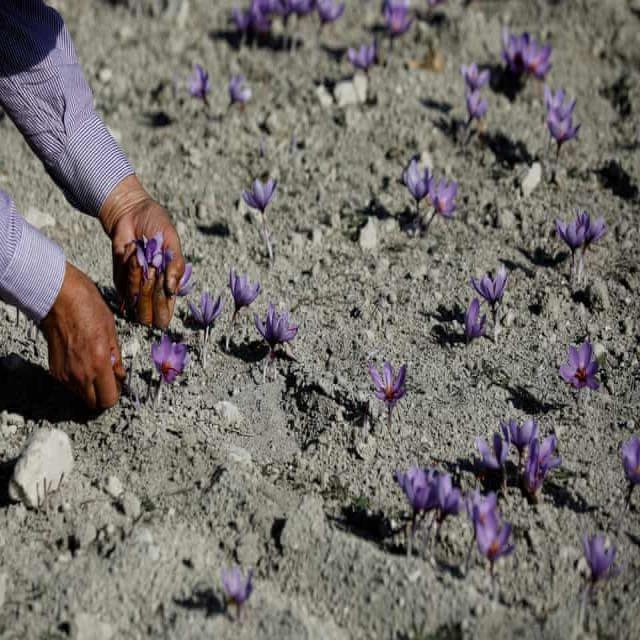Flower: (476, 405, 562, 487), (231, 268, 300, 364), (396, 462, 462, 540), (402, 144, 458, 228), (236, 170, 294, 245), (208, 552, 263, 626), (366, 355, 418, 432), (474, 490, 514, 590), (572, 524, 626, 598), (215, 5, 302, 48), (474, 262, 518, 341), (536, 91, 588, 156), (500, 25, 556, 83), (563, 336, 609, 406), (554, 207, 606, 266), (152, 325, 194, 392), (452, 290, 491, 345), (460, 61, 491, 130), (136, 238, 176, 290), (618, 423, 640, 505), (353, 25, 387, 78), (184, 63, 217, 115), (376, 0, 414, 36), (226, 78, 262, 115)
